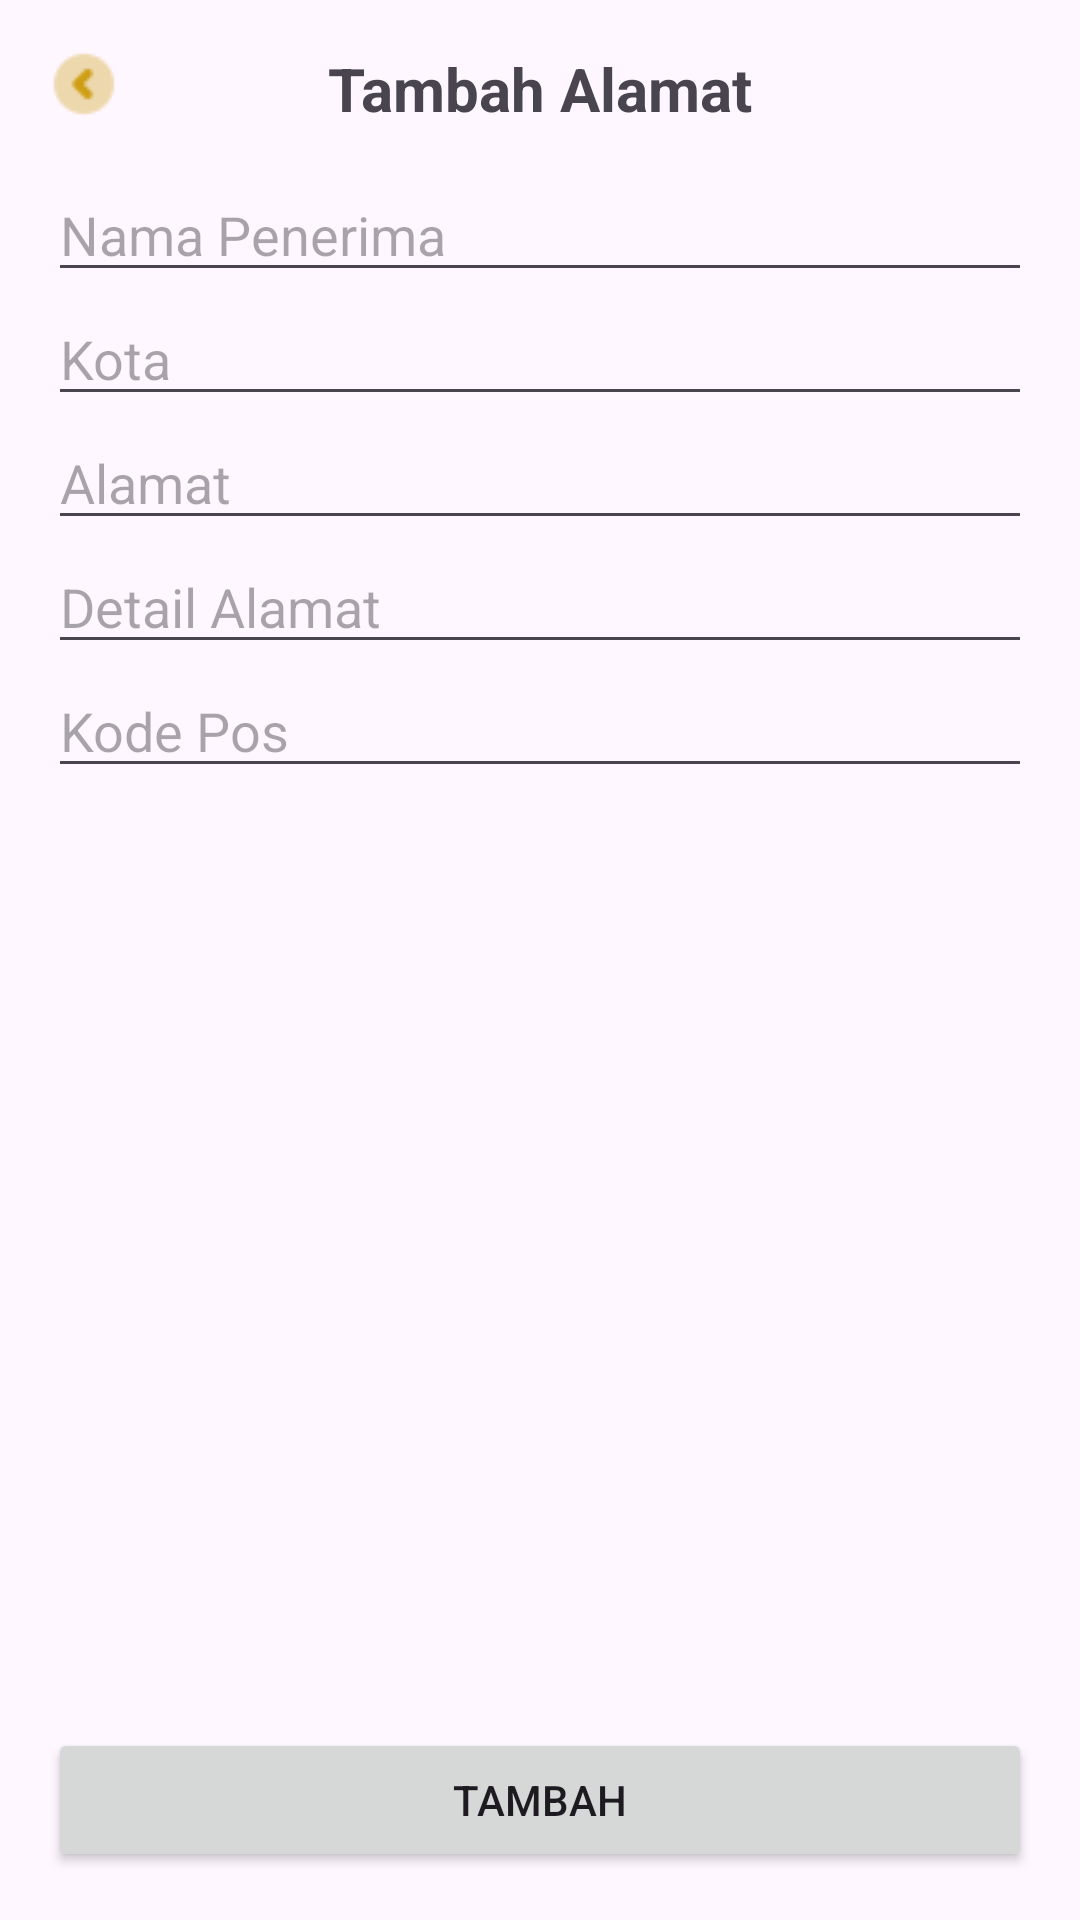

Icons on this 1080 x 1920 Android screen, each with the point to tap as [x,y]:
arrow left: [84,84]
